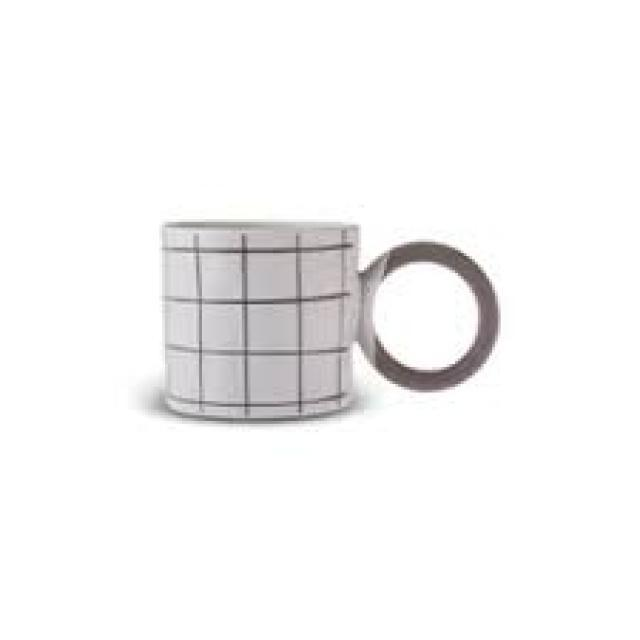taza: (159, 218, 502, 422)
